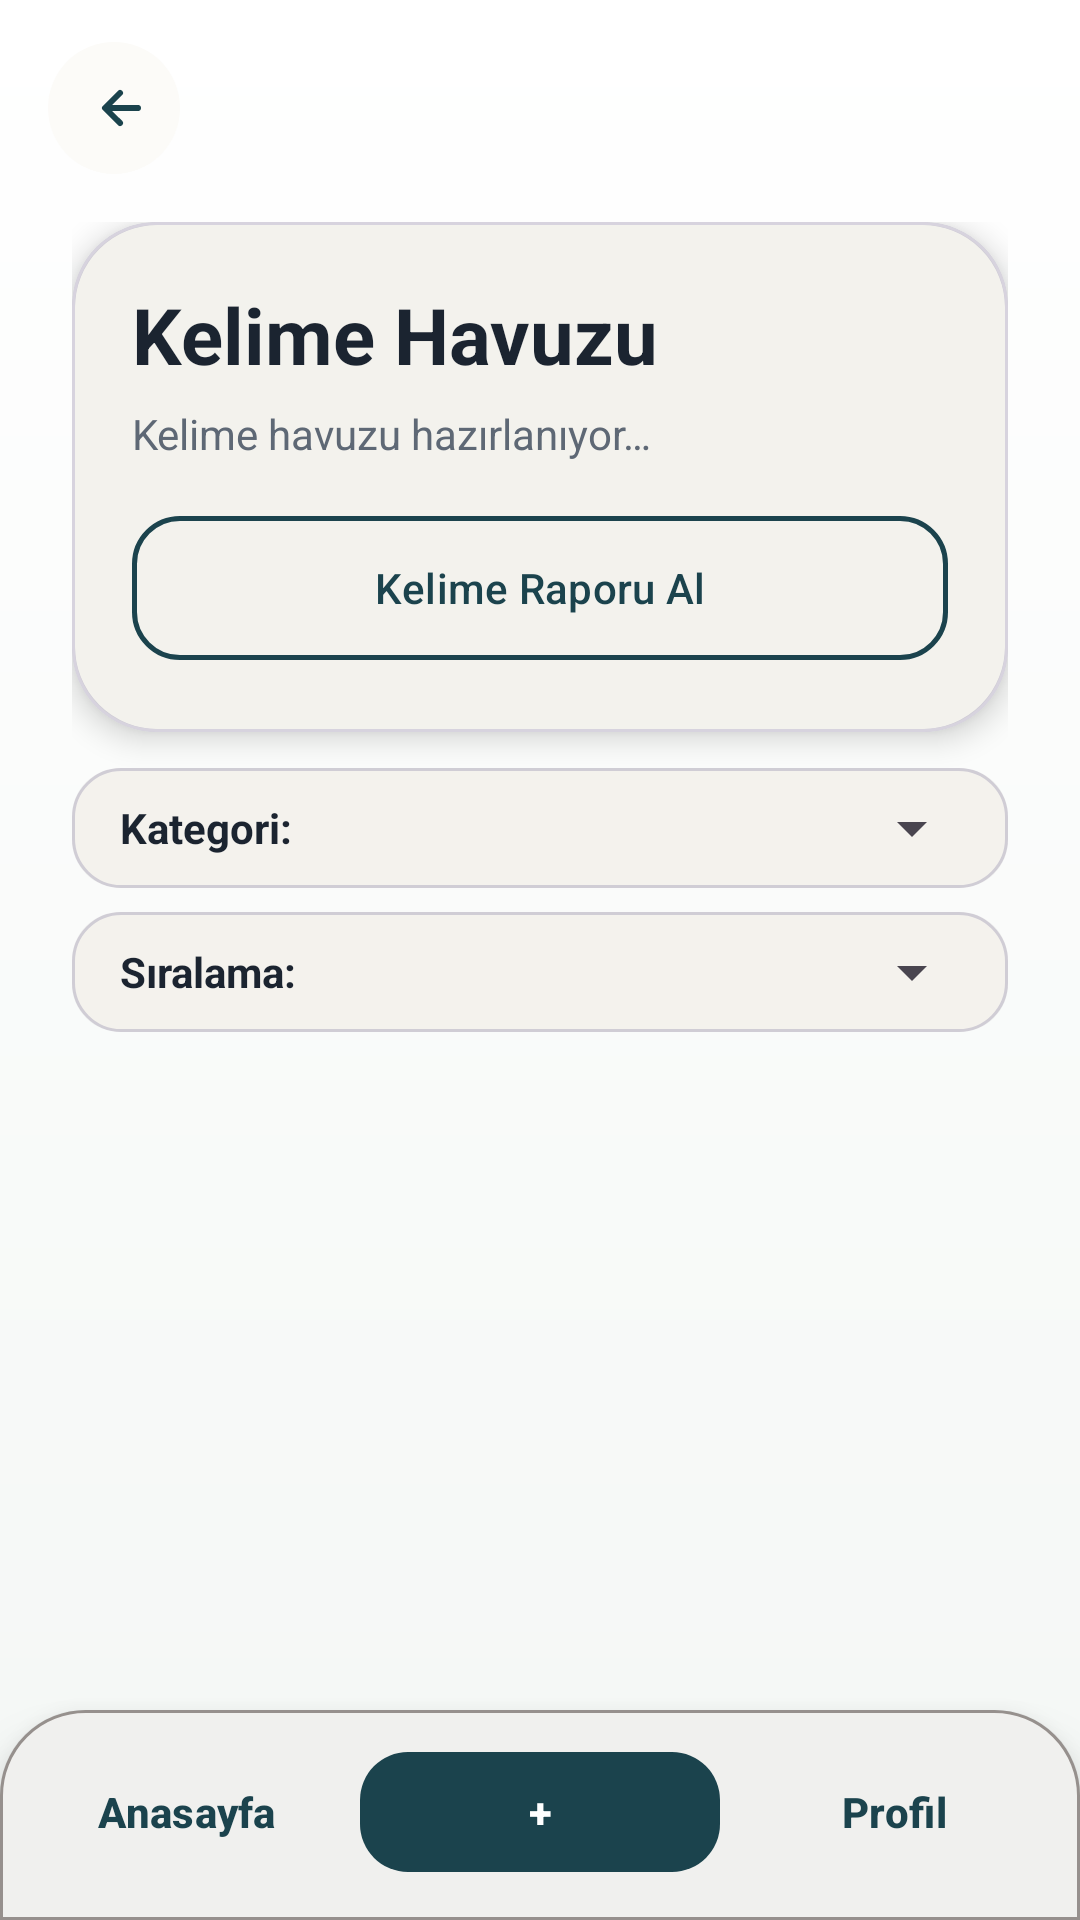

Named icons in this screenshot (1080 × 1920) and their bounding boxes, bbox=(x1, y1, x2, y2):
Geri: bbox=(102, 90, 141, 126)
